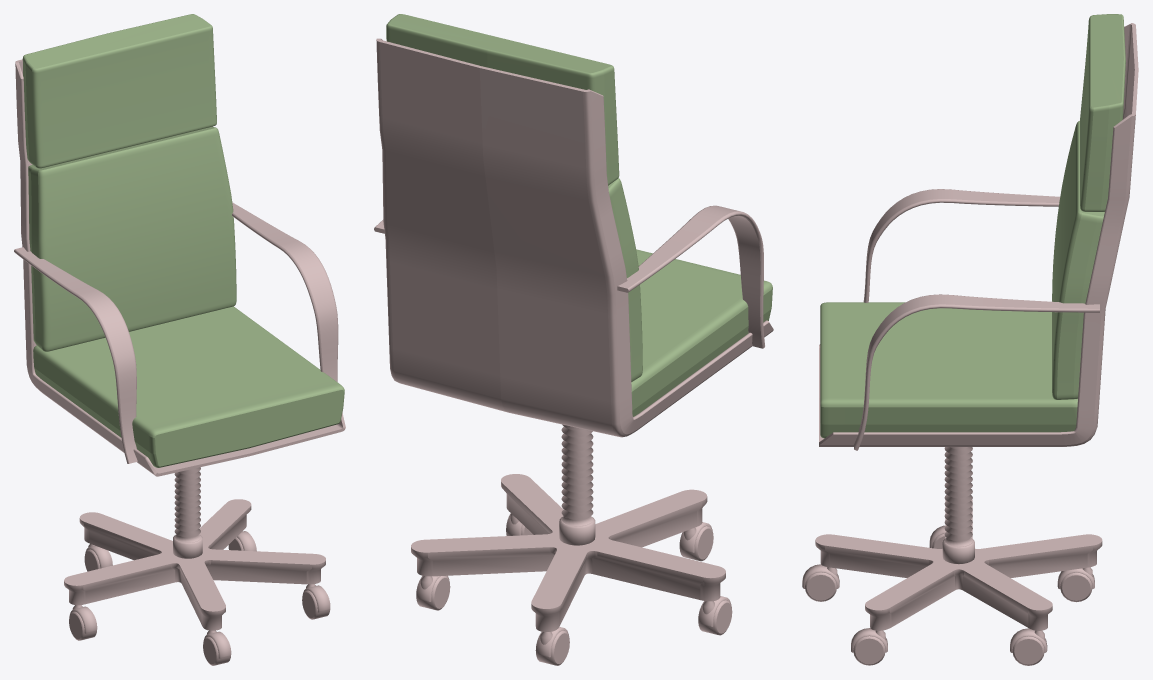
The picture shows the model from 3 angles, left to right: view 1: azimuth 30°, elevation 25°; view 2: azimuth 150°, elevation 25°; view 3: azimuth 270°, elevation 25°; orthographic projection. The views are drawn at different scales.
Parts seen in each view (by area): view 1: bosschair; view 2: bosschair; view 3: bosschair.
Part boxes in pixels (<box>): bosschair: <box>14,14,345,665</box>; bosschair: <box>374,14,773,665</box>; bosschair: <box>802,14,1138,665</box>.
Size of the model in its own units: 7.45 by 8.72 by 15.94.
